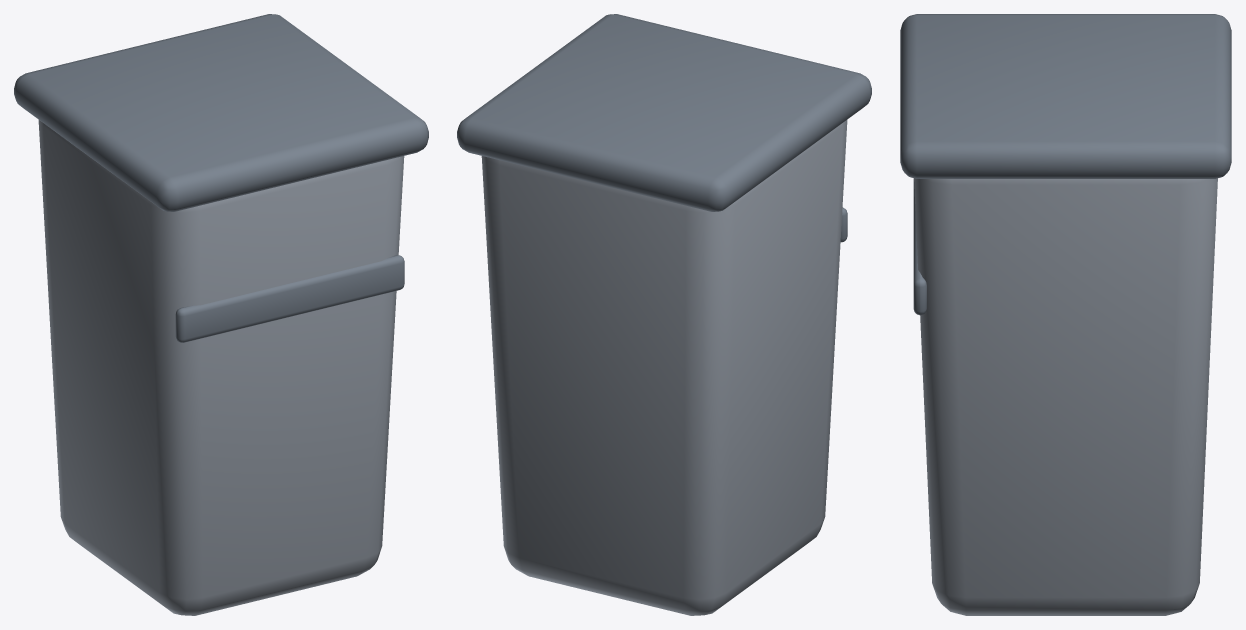
File: lixeira_comum.glb
3 views of the same model, side by side, from view 1: azimuth 30°, elevation 25°; view 2: azimuth 150°, elevation 25°; view 3: azimuth 270°, elevation 25° (orthographic). The views are drawn at different scales.
Visible parts, largest first — view 1: lixeira_comum; view 2: lixeira_comum; view 3: lixeira_comum.
Part boxes in pixels (x1,y1,x2,y2): lixeira_comum: (14,14,428,615); lixeira_comum: (457,14,871,615); lixeira_comum: (900,14,1231,615).
Size of the model in its own units: 0.5 by 0.82 by 0.5.
1 material, 1 textured.
